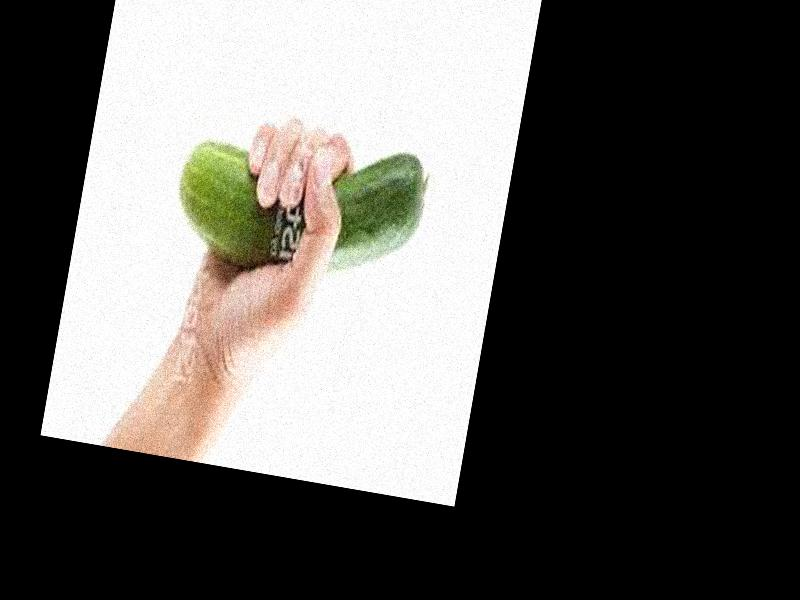Cucumber: (168, 113, 432, 296)
